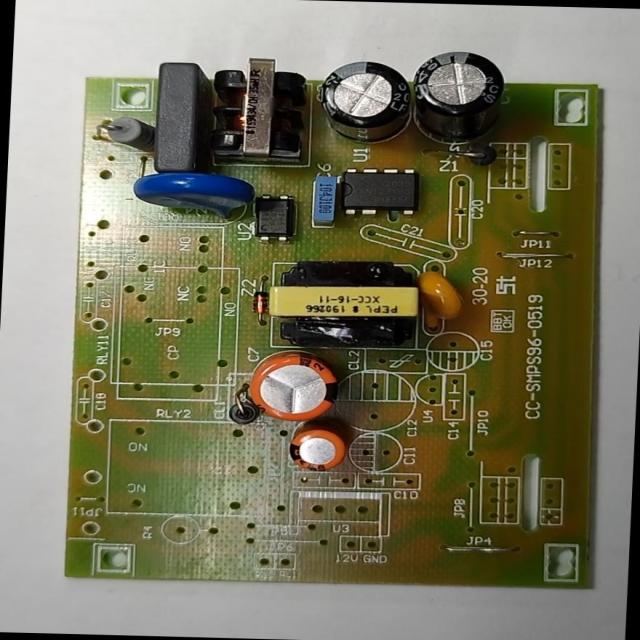Cap1: (236, 346, 347, 425)
Cap2: (284, 417, 358, 477)
Cap3: (309, 56, 425, 151)
Cap4: (398, 44, 516, 158)
MOSFET: (328, 162, 428, 220)
Mov: (123, 166, 264, 226)
Resistor: (95, 110, 164, 156)
Transformer: (261, 255, 428, 352), (202, 52, 314, 165)
